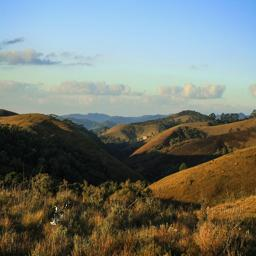Cuckoo: (49, 203, 67, 226)
